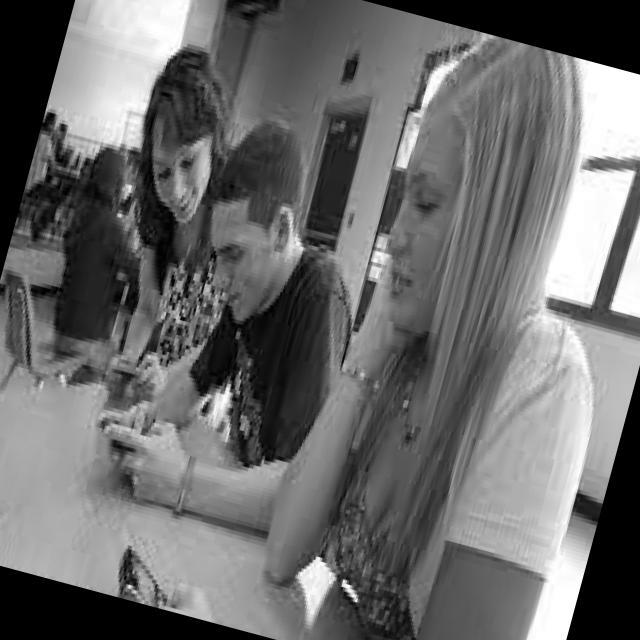phone: (111, 540, 176, 605), (94, 412, 142, 453), (110, 353, 144, 379)
